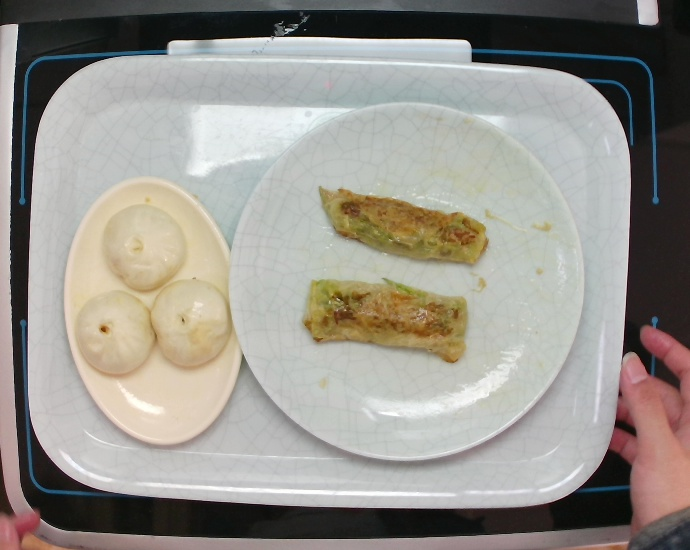JYsf-Da_Yuan_Pan: (222, 92, 587, 470)
JYsf-Tuo_Yuan_Wan: (56, 169, 248, 451)
